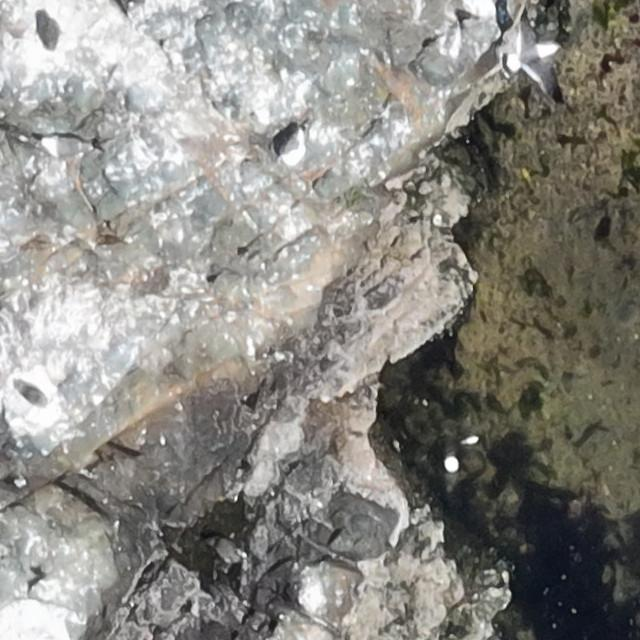F: (512, 30, 559, 94)
umineko: (12, 375, 61, 414), (279, 128, 307, 166), (442, 435, 463, 474), (44, 136, 84, 154)
